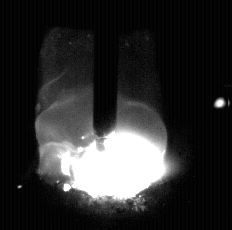arame: (93, 0, 118, 136)
poca: (38, 0, 167, 230)
